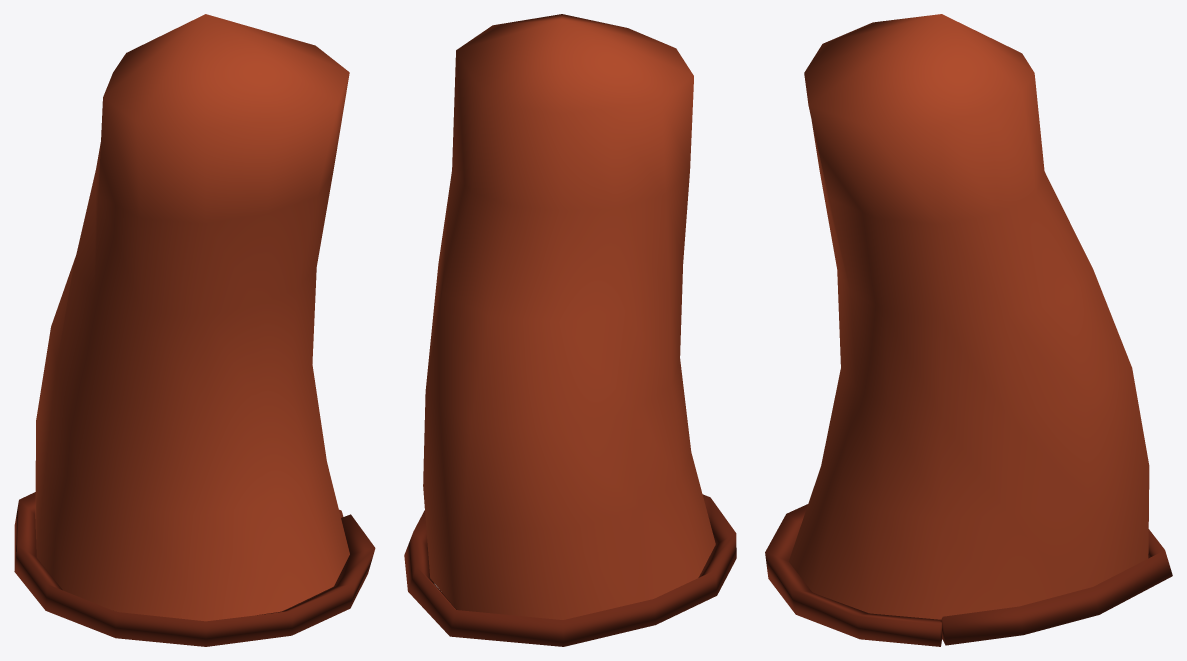
File: meteor_armor_boot.L.glb
3 views of the same model, side by side, from view 1: azimuth 30°, elevation 25°; view 2: azimuth 150°, elevation 25°; view 3: azimuth 270°, elevation 25° (orthographic). The views are drawn at different scales.
Visible parts, largest first — view 1: meteor_armor_boot.L; view 2: meteor_armor_boot.L; view 3: meteor_armor_boot.L.
Boxes of the visible parts, bbox=[...] form: meteor_armor_boot.L: bbox=[14, 14, 375, 646]; meteor_armor_boot.L: bbox=[404, 14, 736, 646]; meteor_armor_boot.L: bbox=[765, 14, 1172, 646].
Bounding box in the file's own units: 0.1684 × 0.2958 × 0.1934.
